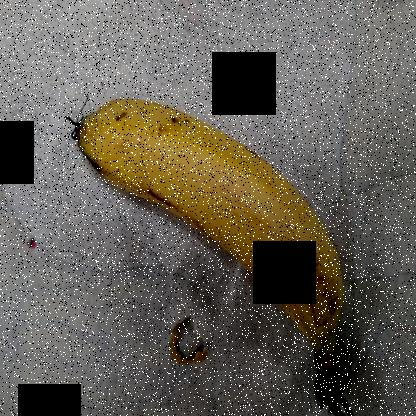freshripe: (70, 98, 344, 340)
